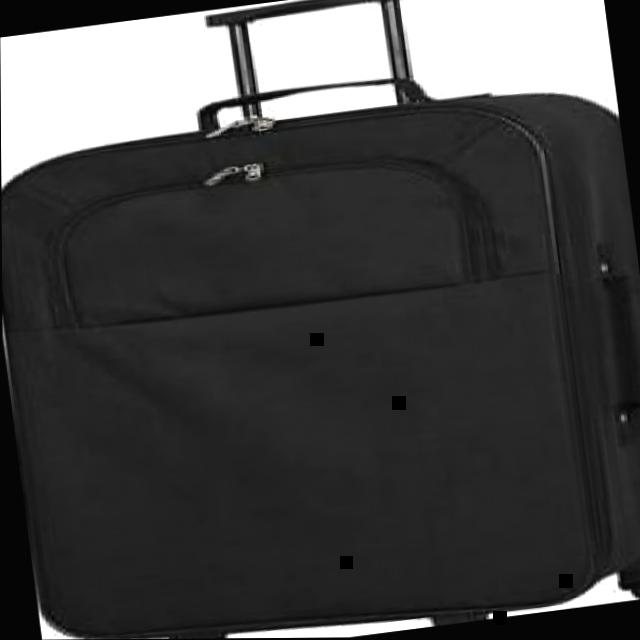luggage: (0, 42, 640, 640)
